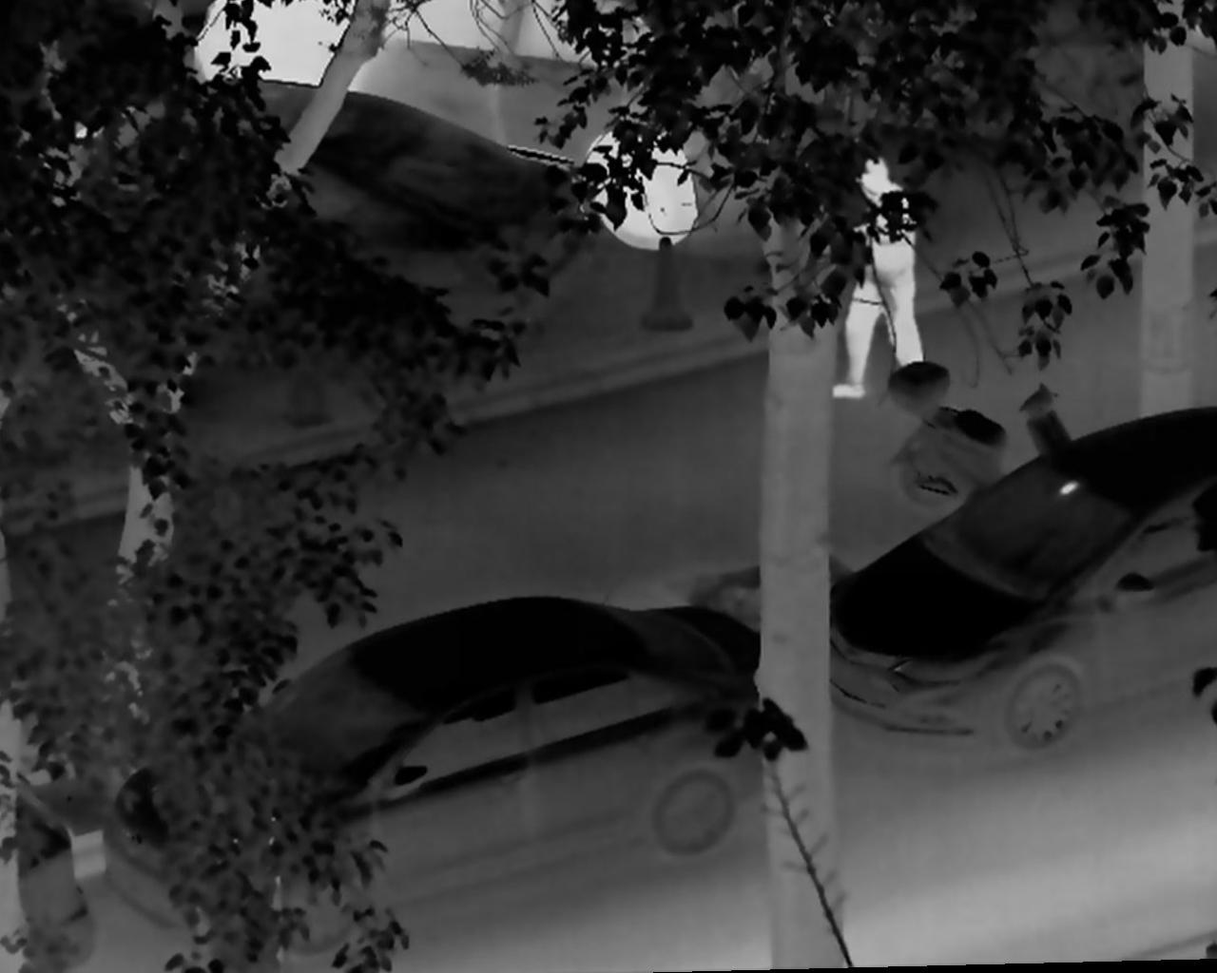person: (828, 148, 938, 407)
